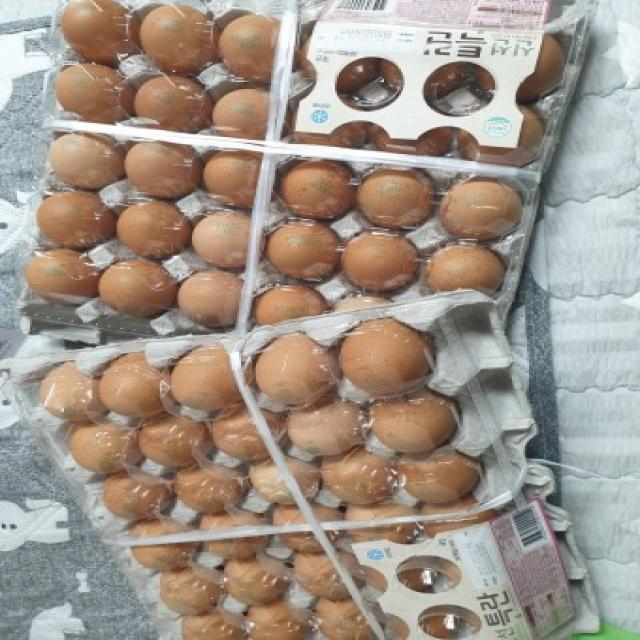eggs: (339, 319, 440, 403), (358, 393, 465, 457), (254, 334, 339, 411), (157, 342, 244, 408), (60, 0, 144, 67), (117, 141, 211, 199), (334, 227, 413, 295), (143, 6, 220, 74), (275, 158, 358, 220), (263, 215, 337, 284), (440, 178, 517, 244), (282, 396, 369, 454), (128, 74, 211, 134), (109, 200, 189, 262), (167, 460, 254, 517), (53, 61, 137, 120), (46, 130, 126, 190), (89, 265, 183, 316), (214, 16, 281, 85), (133, 411, 211, 470), (30, 191, 115, 245), (177, 216, 256, 274), (421, 239, 496, 298), (207, 404, 286, 460), (96, 352, 170, 411), (316, 448, 399, 499), (396, 452, 488, 498), (26, 247, 101, 303), (205, 82, 277, 139), (362, 166, 430, 226), (173, 268, 245, 324), (98, 465, 169, 521), (40, 368, 112, 420), (66, 420, 146, 465), (204, 151, 264, 209), (246, 282, 326, 322)
